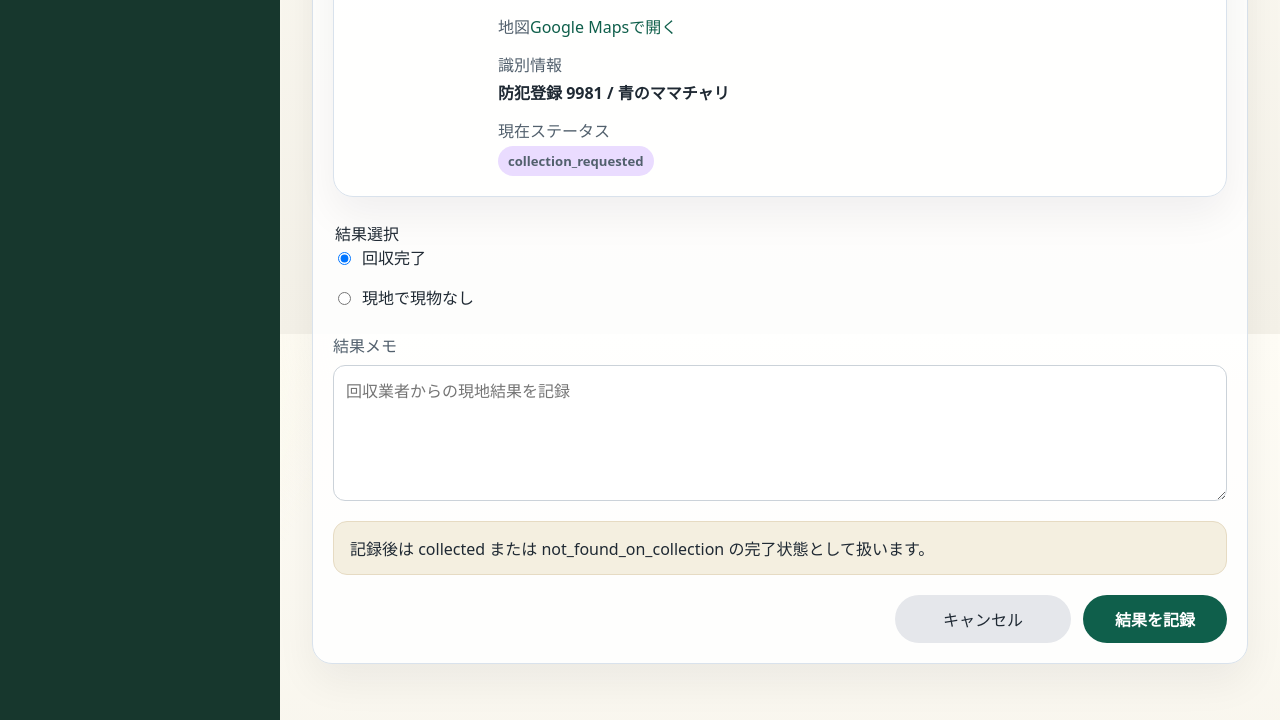
it: Admin Dashboard pages › shows backend errors on the collection result page
(page scrolled)
Click the button "結果を記録".
click(1155, 619)  # box left=1083, top=595, right=1227, bottom=643
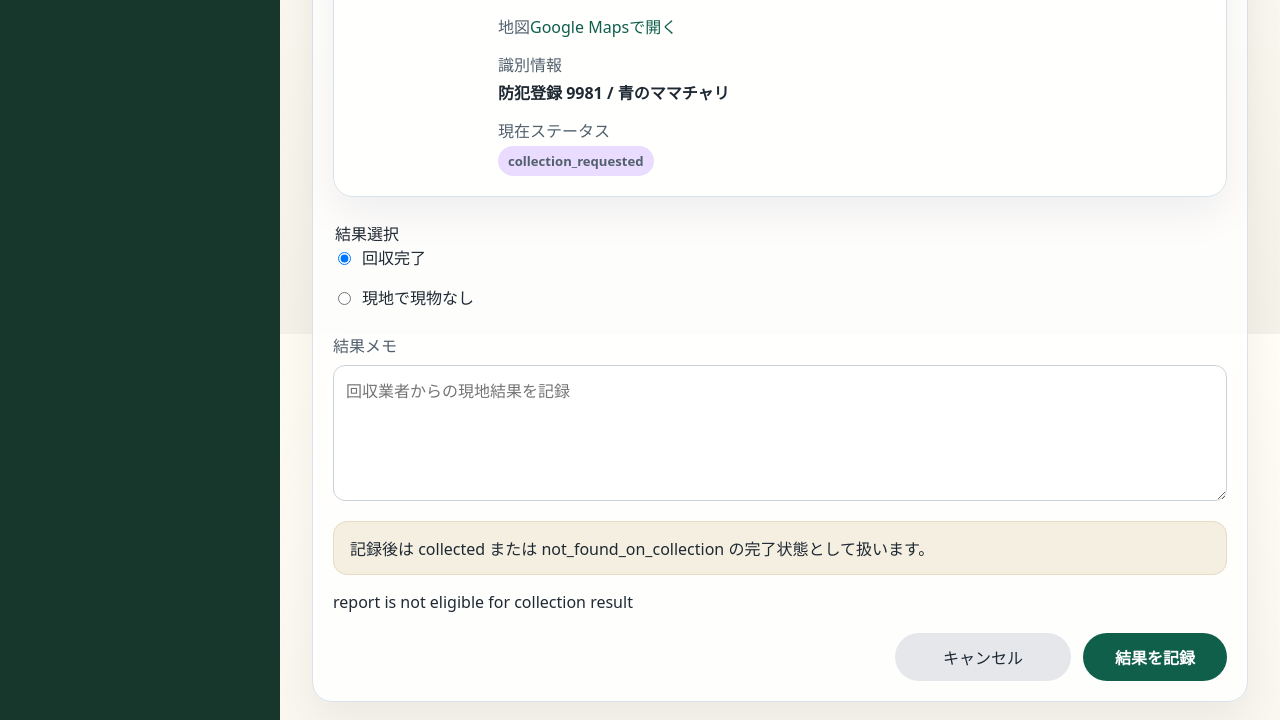
Now the text "report is not eligible for collection result" is shown, box left=333, top=591, right=633, bottom=613
